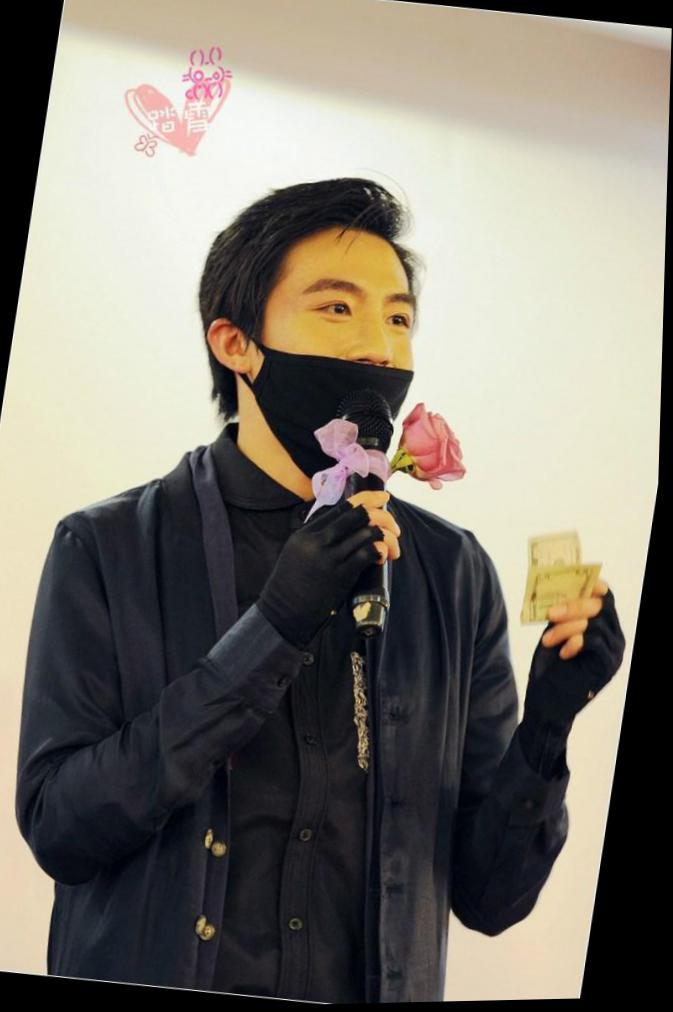WRONG: (255, 254, 457, 454)
